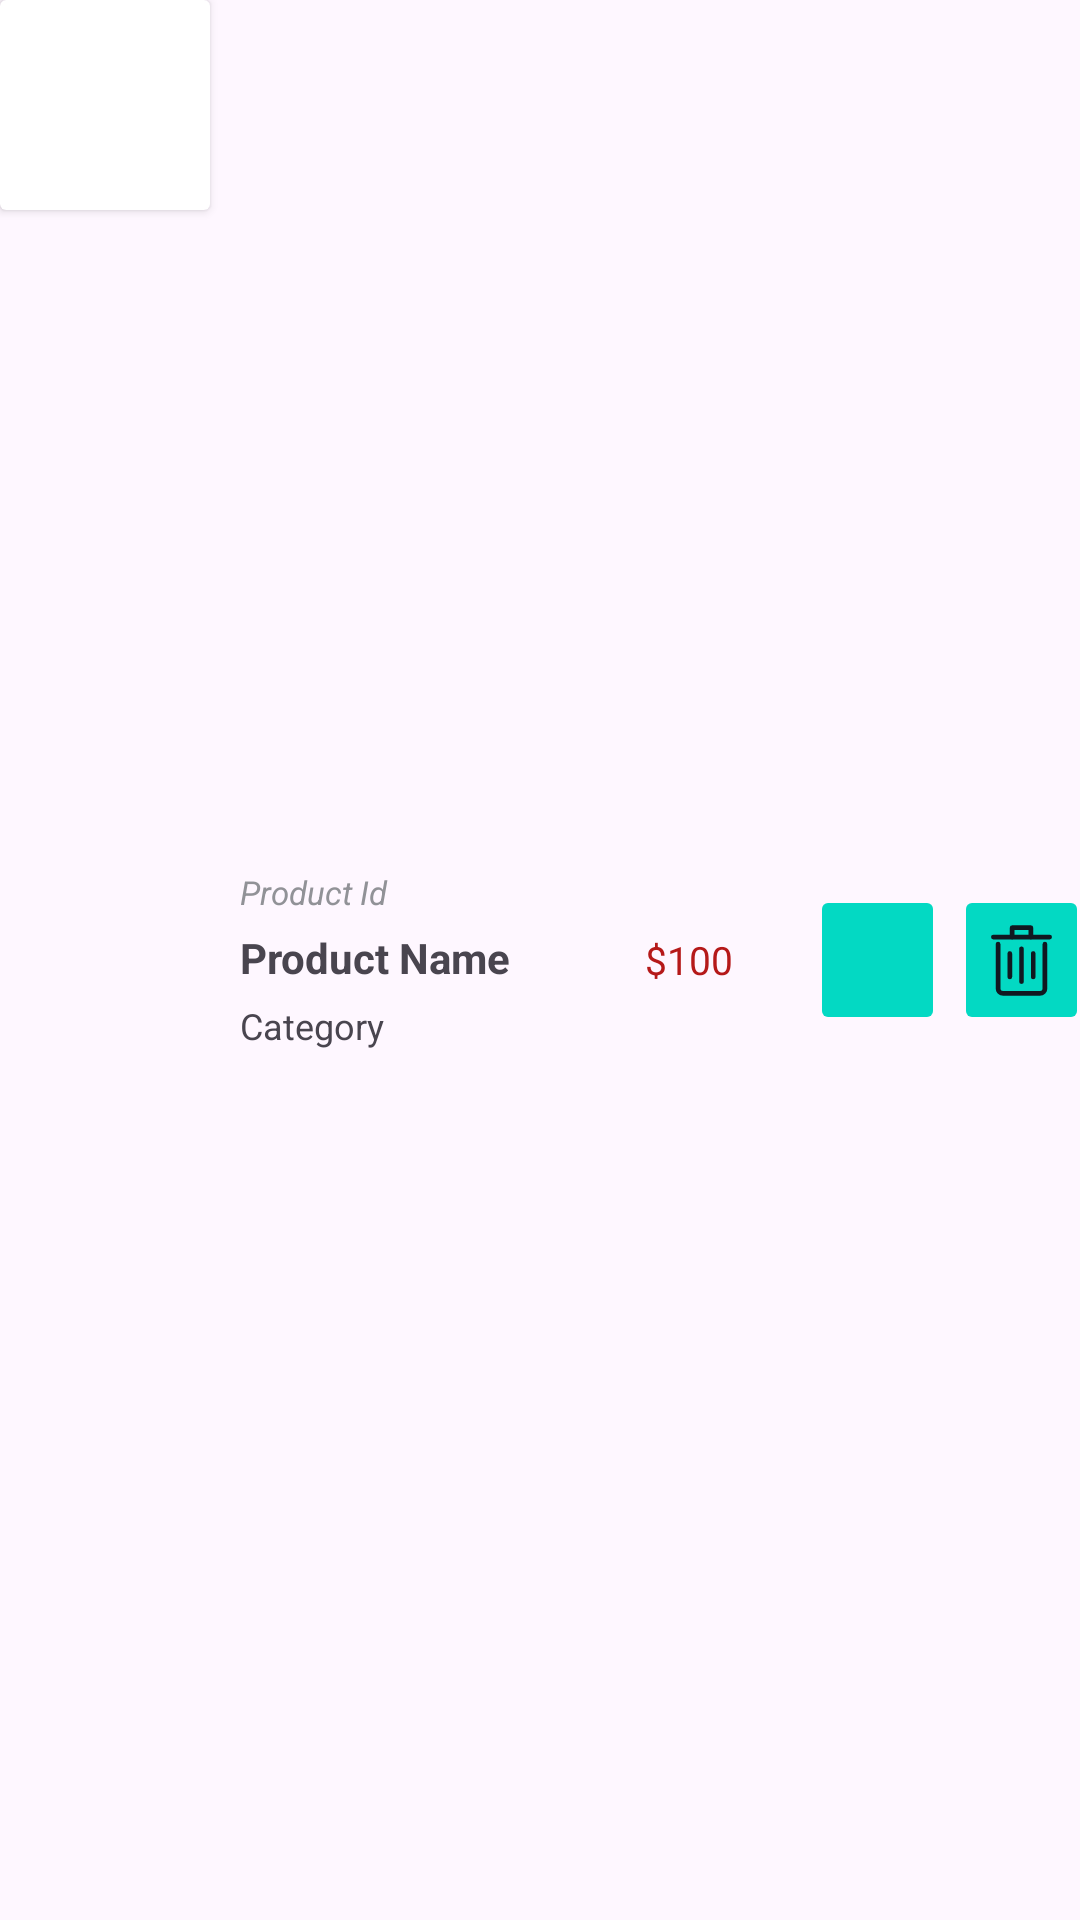

Where to tap for icons on this 1080px×1920px app screen, as [x,y]:
delete: [1021,960]
